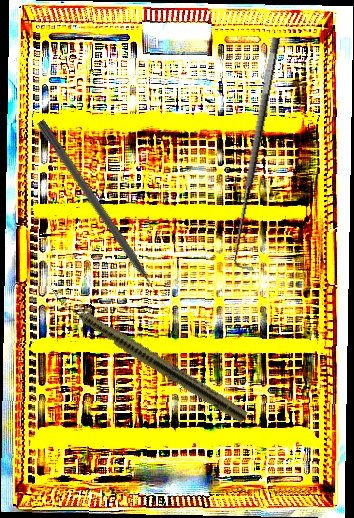Handpiece: (42, 285, 251, 425)
Hook Surgical: (223, 36, 299, 274)
Pusher: (34, 118, 170, 312)
